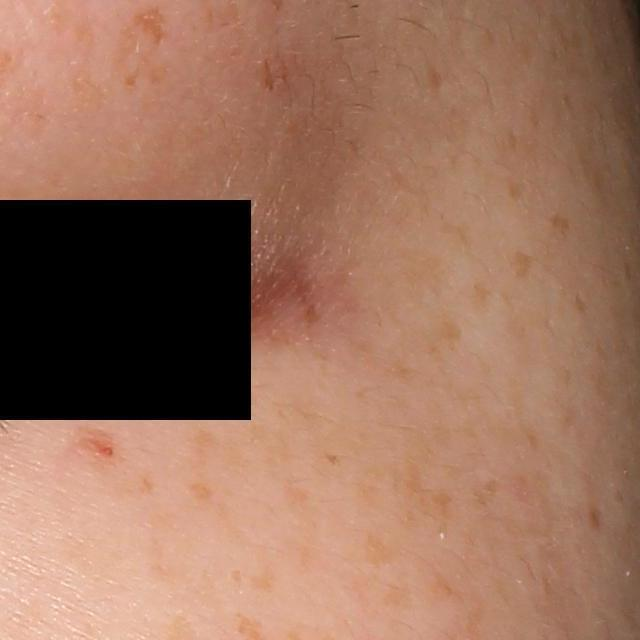melasma: (136, 10, 164, 43), (384, 585, 410, 609)
